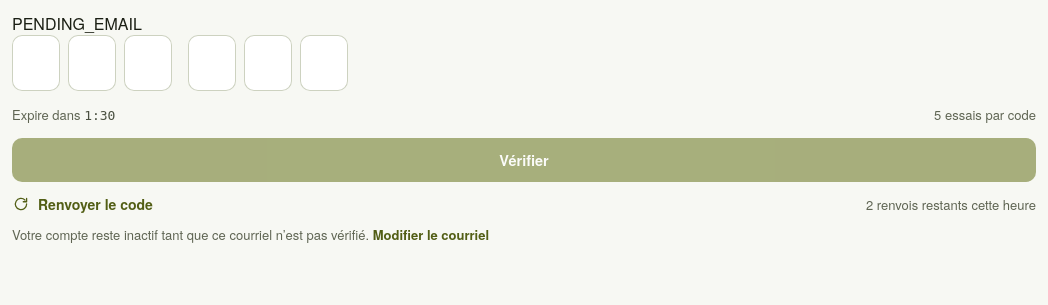
it: AUTH-14, AUTH-17 : vérification du courriel › ADR 0024 : INVALID_CODE affiche « Code incorrect. » et vide les cases
The width and height of the screenshot is (1048, 305).
Type "111111" into the field named "Code de vérification — 1/6" at (36, 63), box x1=12 y1=35 x2=60 y2=91
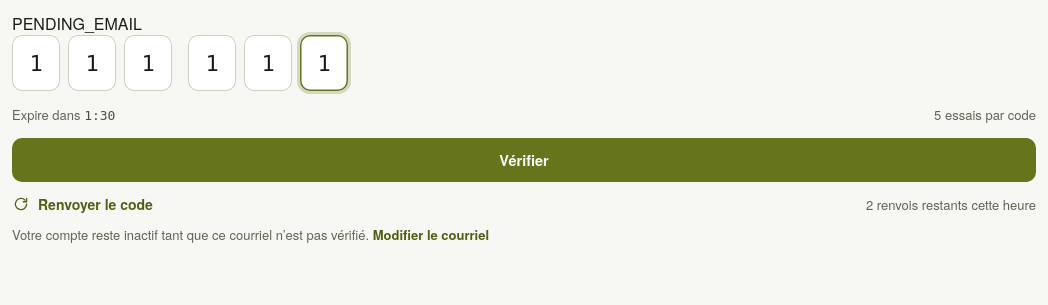
Click the button "Vérifier" at (524, 160), box x1=12 y1=138 x2=1036 y2=182
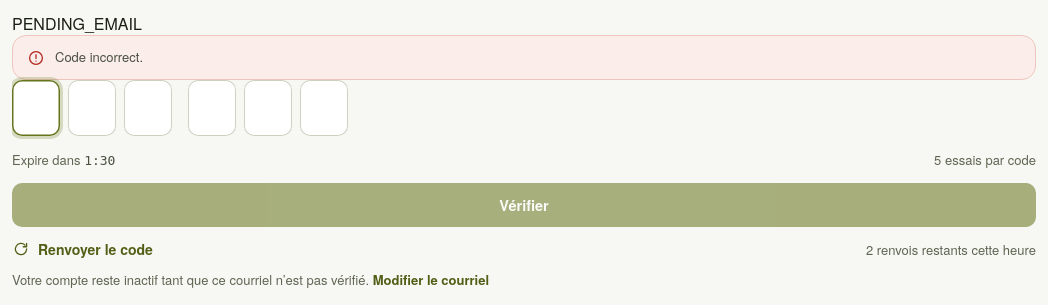
Result: the message reads "Code incorrect." at x1=55 y1=47 x2=143 y2=66
